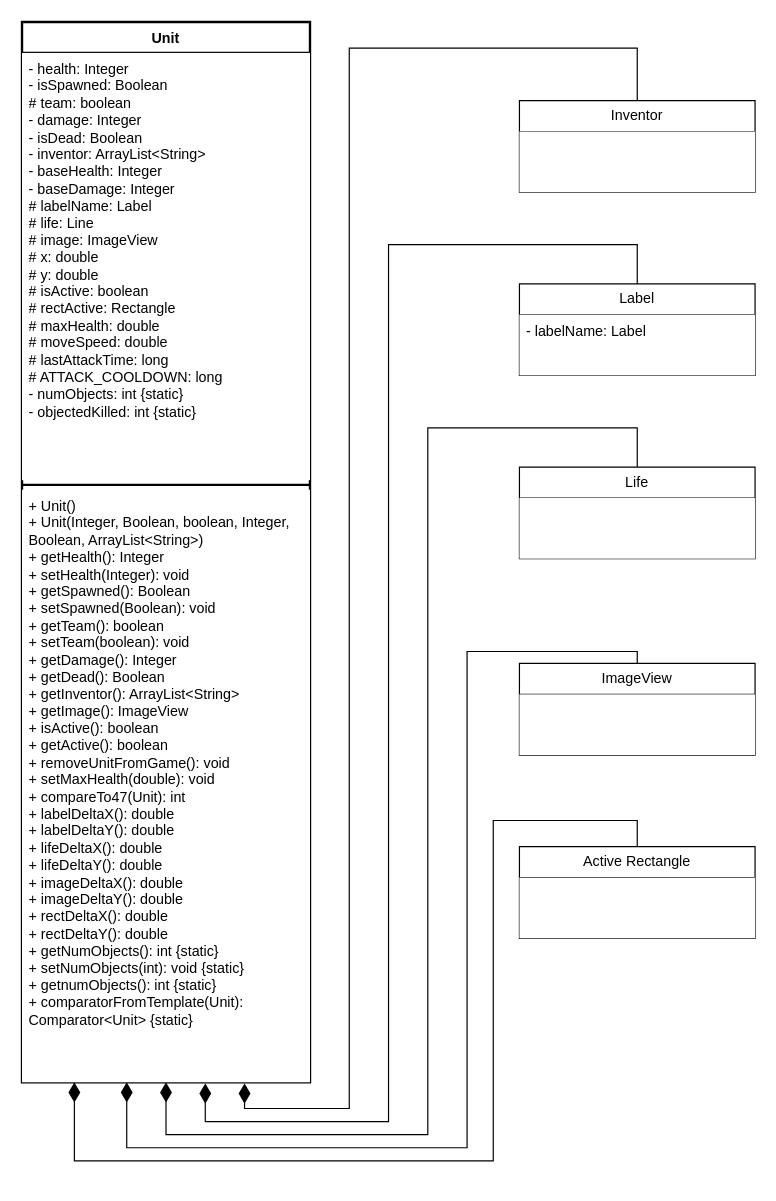
Some shapes in this 776 by 1201 pixel diagram are drawn without their labels. Here are the shapes that lost their labels. From the top down, the box of each, then its label:
(519, 131, 754, 192): - inventor : ArrayList<String>
(519, 497, 754, 558): - life: Line
(519, 694, 754, 754): - image: ImageView
(519, 877, 754, 938): - rectActive: Rectangle
